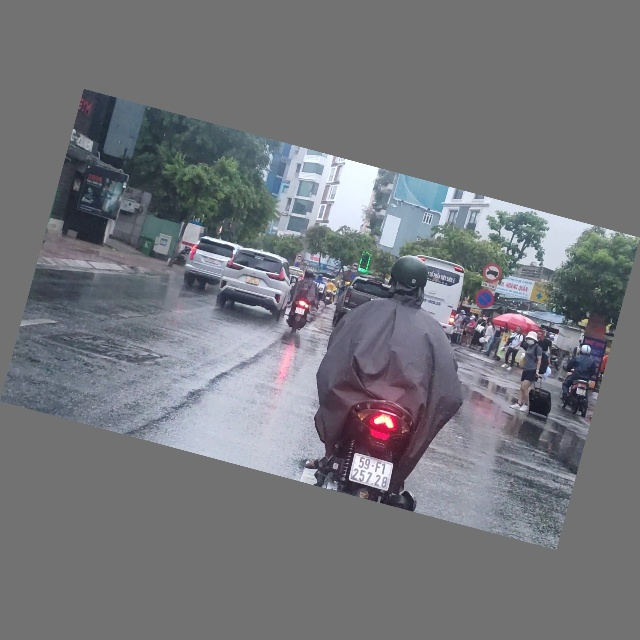P.106a*Xe tai: (480, 262, 504, 285), (351, 262, 359, 271)
P.131a: (473, 288, 496, 311), (348, 273, 357, 280)
